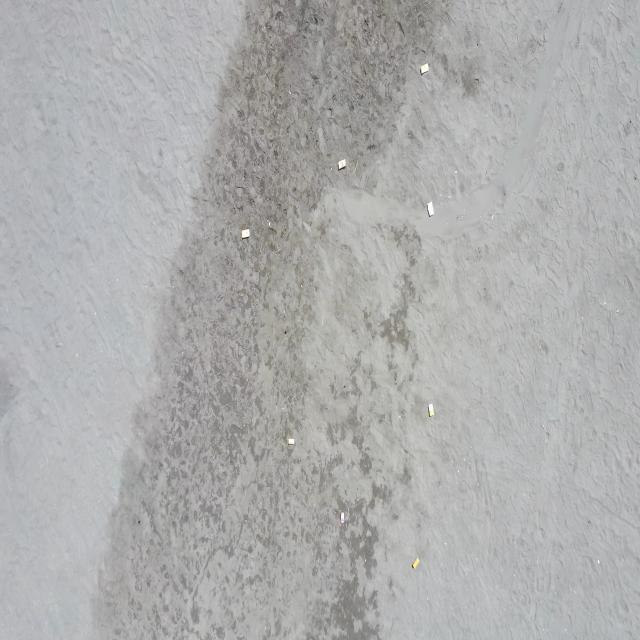retort-pouch: (336, 157, 348, 173), (426, 198, 434, 220), (241, 226, 251, 241), (427, 401, 435, 419), (420, 62, 429, 78), (412, 555, 420, 572), (288, 435, 296, 448), (340, 510, 346, 526)
